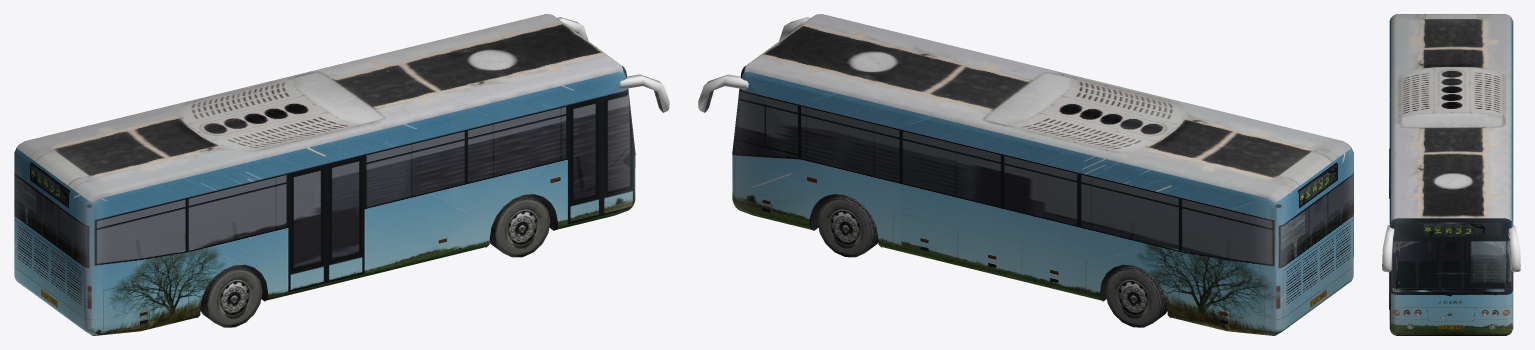
Rendered from bus02.FBX.
3 views of the same model, side by side, from view 1: azimuth 30°, elevation 25°; view 2: azimuth 150°, elevation 25°; view 3: azimuth 270°, elevation 25° (orthographic). The views are drawn at different scales.
Parts seen in each view (by area): view 1: bus02; view 2: bus02; view 3: bus02.
Boxes of the visible parts, <box> form: bus02: <box>14,14,669,335</box>; bus02: <box>698,14,1353,335</box>; bus02: <box>1382,14,1520,335</box>.
Size of the model in its own units: 10.65 by 2.81 by 2.9.
